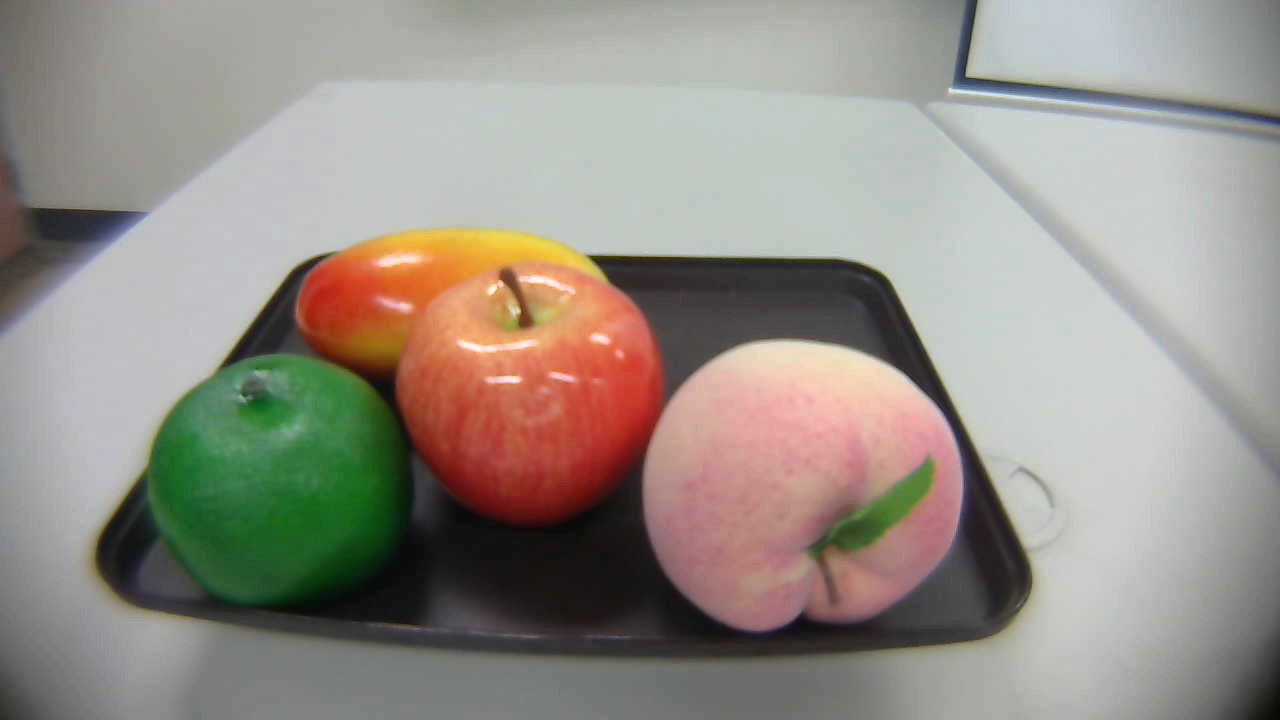green orange: (145, 354, 418, 611)
peach: (640, 331, 968, 646)
red apple: (382, 261, 662, 529)
red mango: (285, 226, 612, 376)
